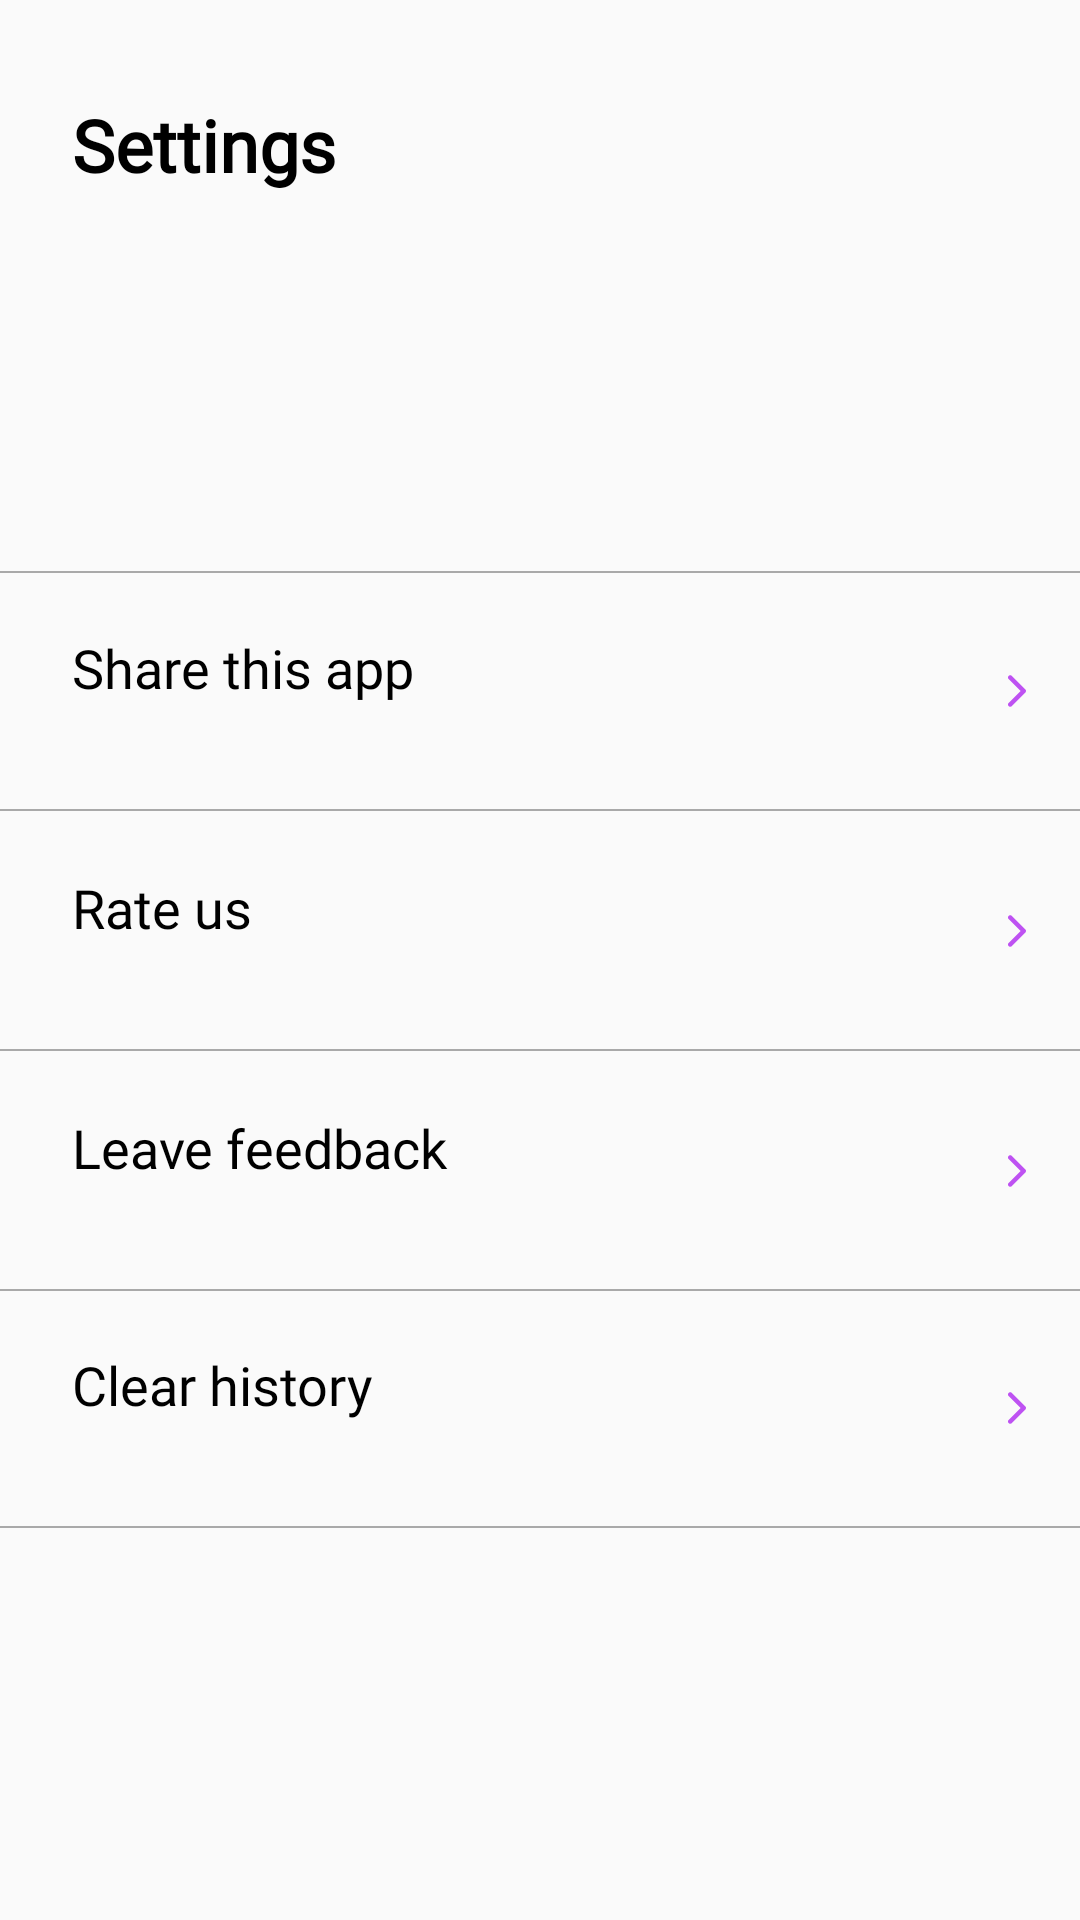

Locate icon controls on the screen. Image size 1080w x 1920h, boxes as (x1, y1, x2, y2).
chevron right: (1008, 675, 1026, 707), (1008, 915, 1026, 947), (1008, 1155, 1026, 1187), (1008, 1392, 1026, 1424)
